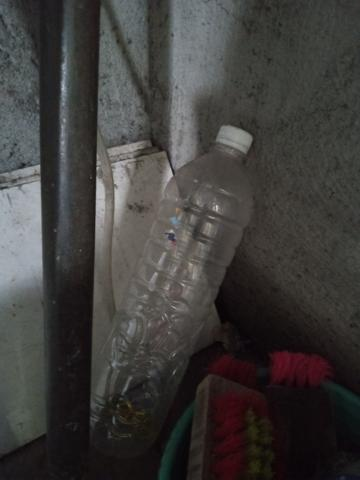botol_kaca: (90, 114, 268, 467)
